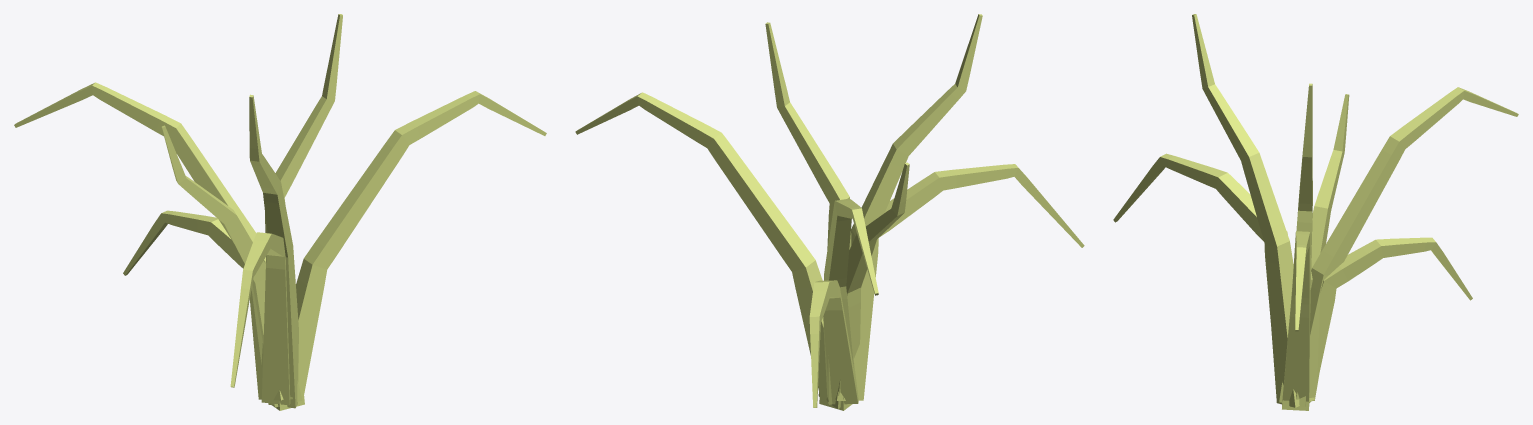
File: Grass_Medium.fbx
3 renders of one model, left to right at view 1: azimuth 30°, elevation 25°; view 2: azimuth 150°, elevation 25°; view 3: azimuth 270°, elevation 25°, orthographic. The views are drawn at different scales.
Visible parts, largest first — view 1: Grass.011; view 2: Grass.011; view 3: Grass.011.
Part boxes in pixels (left/top/right/bottom): Grass.011: left=14, top=14, right=546, bottom=410; Grass.011: left=575, top=14, right=1084, bottom=410; Grass.011: left=1113, top=14, right=1518, bottom=410.
Bounding box in the file's own units: 63.54 × 53.74 × 56.3.
